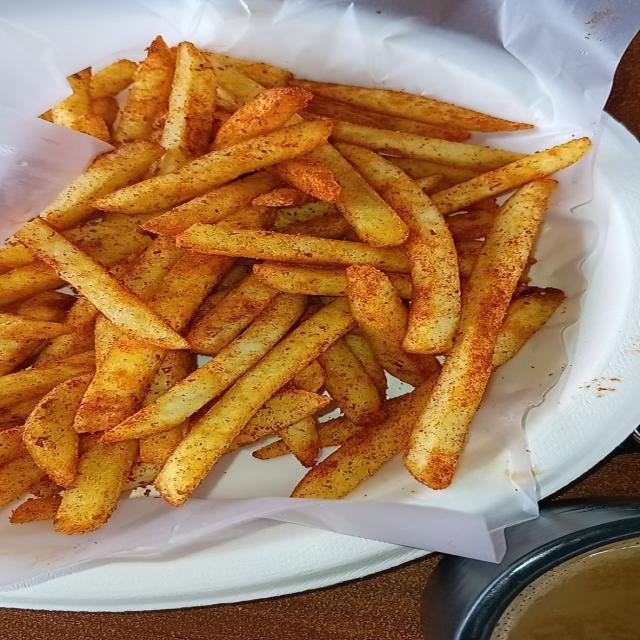potato fries: (0, 37, 590, 533), (405, 181, 556, 488), (155, 299, 353, 504), (103, 295, 305, 441), (338, 145, 459, 353), (94, 120, 333, 213), (16, 219, 187, 348), (292, 375, 435, 498), (292, 81, 531, 131), (433, 138, 591, 213), (177, 225, 409, 273), (347, 265, 439, 386), (42, 141, 163, 230), (311, 145, 407, 246), (332, 122, 525, 171), (75, 335, 166, 432), (142, 172, 279, 235), (54, 441, 137, 534), (23, 374, 91, 486), (158, 43, 216, 173), (306, 96, 469, 141), (187, 276, 277, 355), (114, 37, 174, 143), (230, 389, 330, 450), (214, 88, 313, 149), (494, 288, 565, 367), (0, 352, 93, 407), (319, 340, 380, 423), (207, 53, 265, 107), (272, 157, 341, 202), (254, 263, 347, 296), (209, 53, 292, 88), (143, 351, 196, 405), (345, 333, 387, 399), (388, 157, 478, 185), (51, 68, 92, 128), (0, 455, 44, 507), (280, 417, 319, 467), (0, 313, 72, 340), (90, 60, 137, 101), (285, 213, 350, 239), (317, 416, 364, 448), (10, 496, 61, 523), (253, 187, 313, 207), (0, 427, 26, 466)
